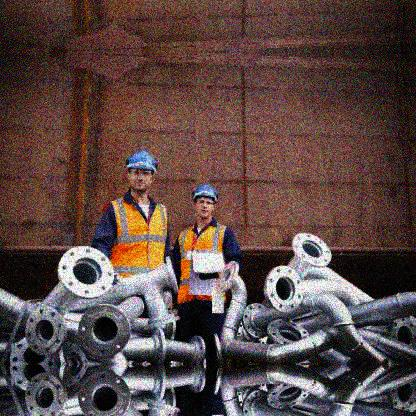helmet: (127, 149, 161, 191), (191, 183, 219, 219)
